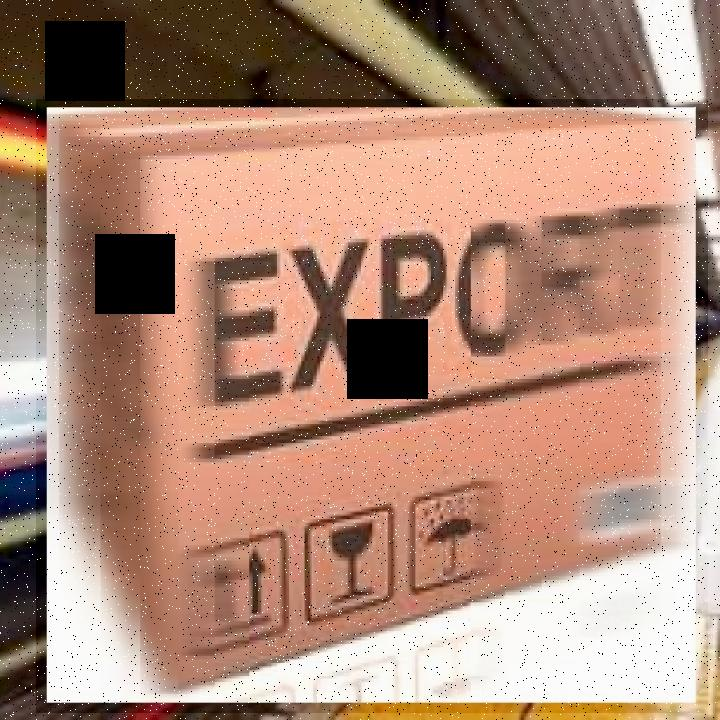box: (36, 99, 708, 713)
